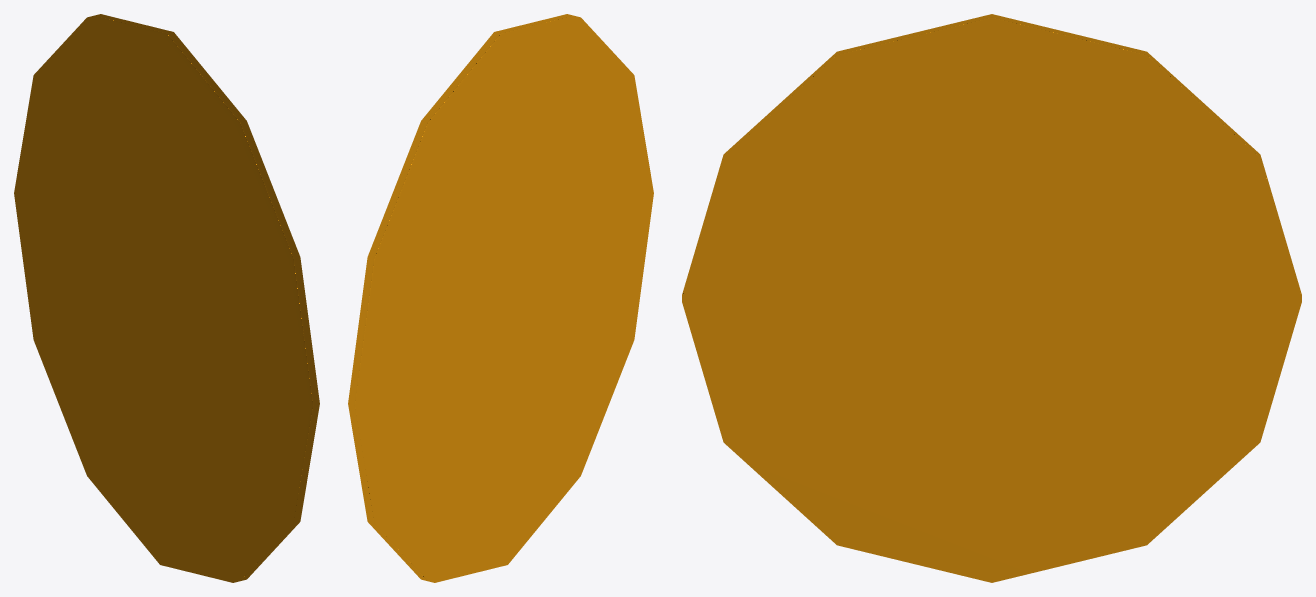
The model's file is Bar9.gltf.
3 views of the same model, side by side, from view 1: azimuth 30°, elevation 25°; view 2: azimuth 150°, elevation 25°; view 3: azimuth 270°, elevation 25° (orthographic). The views are drawn at different scales.
Parts seen in each view (by area): view 1: Cylinder.020; view 2: Cylinder.020; view 3: Cylinder.020.
Part boxes in pixels (x1,y1,x2,y2): Cylinder.020: (14, 14, 319, 582); Cylinder.020: (348, 14, 653, 582); Cylinder.020: (682, 14, 1301, 582).
Bounding box in the file's own units: 0.000118 × 0.00435 × 0.00435.
